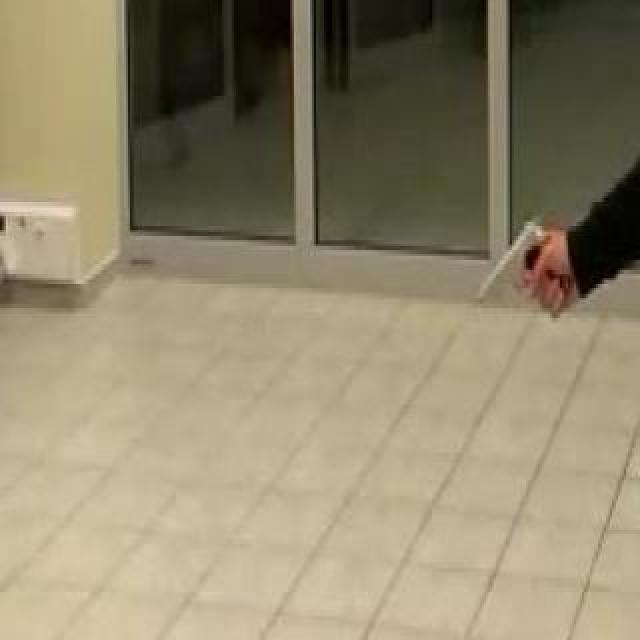Guns: (463, 210, 572, 324)
